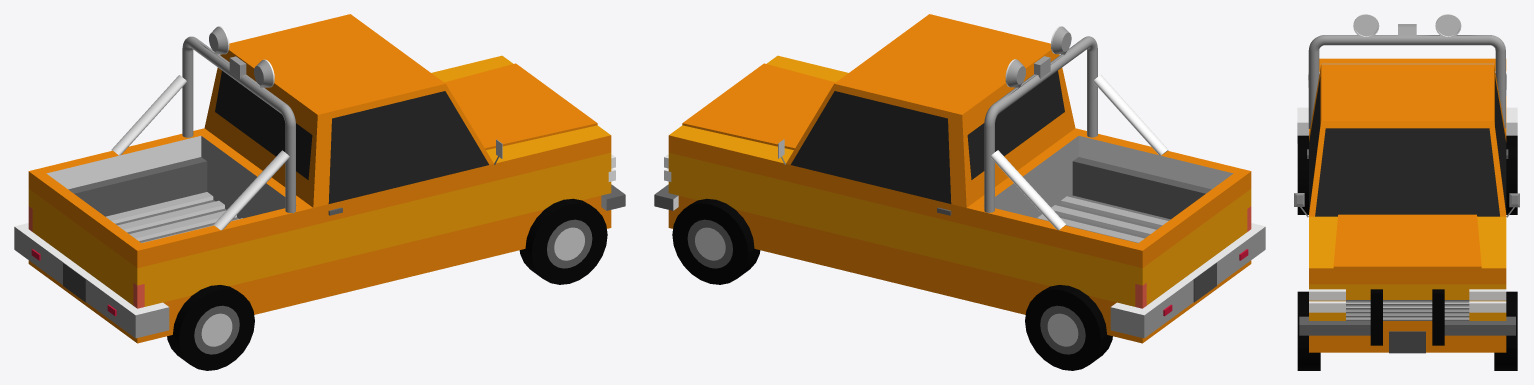
Rendered from lowpolypickup.fbx.
3 views of the same model, side by side, from view 1: azimuth 30°, elevation 25°; view 2: azimuth 150°, elevation 25°; view 3: azimuth 270°, elevation 25° (orthographic). The views are drawn at different scales.
Parts seen in each view (by area): view 1: Model, Group1, Group4; view 2: Model, Group2, Group3; view 3: Model, Group4, Group3, Group1, Group2.
Boxes of the visible parts, x1=… form: Model: x1=14, y1=14, x2=625, y2=343; Group1: x1=167, y1=285, x2=254, y2=370; Group4: x1=519, y1=198, x2=607, y2=284; Model: x1=654, y1=14, x2=1265, y2=343; Group2: x1=1025, y1=285, x2=1112, y2=370; Group3: x1=672, y1=198, x2=760, y2=284; Model: x1=1294, y1=14, x2=1519, y2=353; Group4: x1=1297, y1=291, x2=1320, y2=370; Group3: x1=1494, y1=291, x2=1517, y2=370; Group1: x1=1297, y1=135, x2=1308, y2=214; Group2: x1=1506, y1=135, x2=1517, y2=214.
Bounding box in the file's own units: 376 × 190 × 164.
